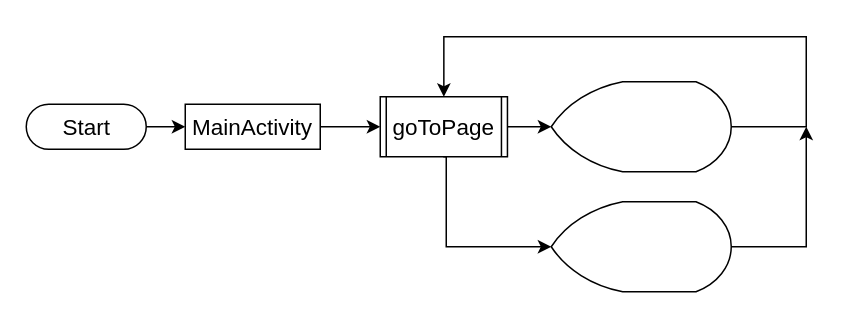
This 845x318 diagram has some shape labels left out. Each missing label, with the box of its shape:
List Fragment: (550, 200, 731, 292)
ListViewPager: (550, 80, 731, 172)
